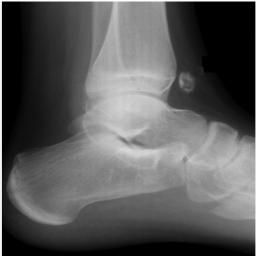cancer: (176, 69, 199, 96)
